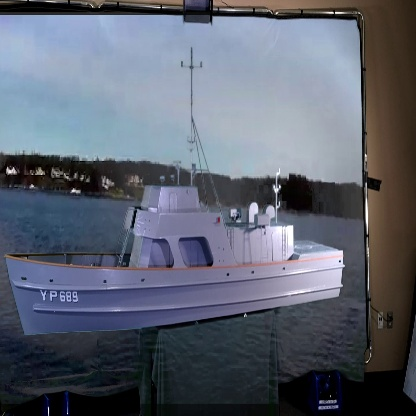YP689: (3, 48, 345, 342)
